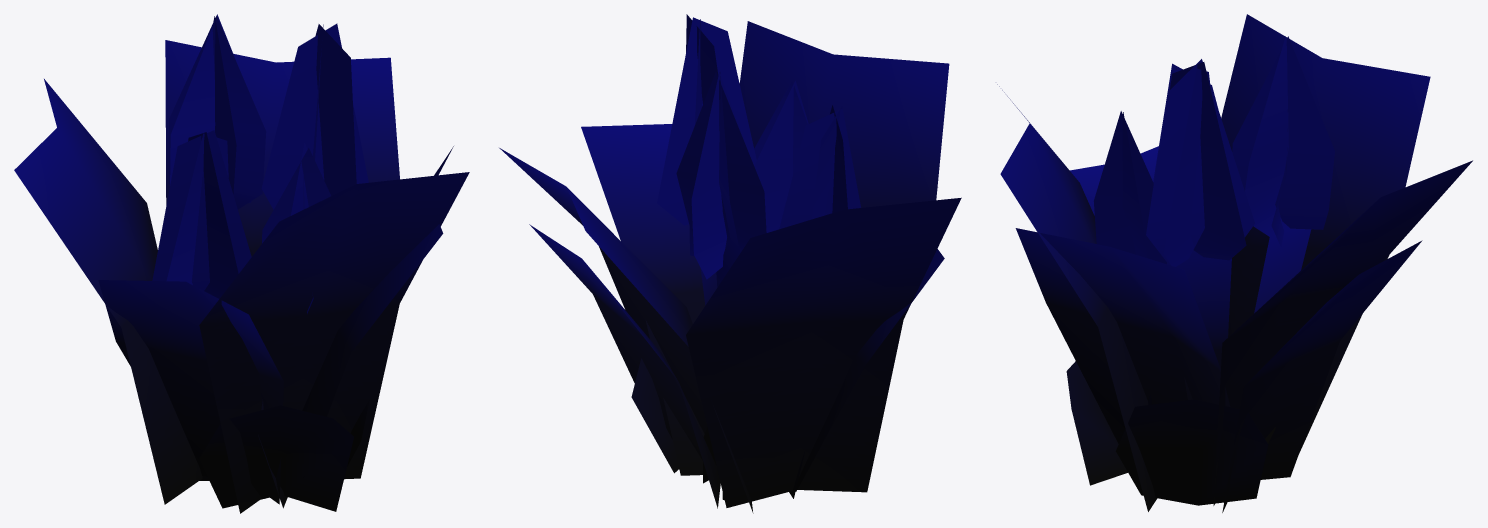
The model's file is SM_Foliage_ReedC_05.fbx.
3 views of the same model, side by side, from view 1: azimuth 30°, elevation 25°; view 2: azimuth 150°, elevation 25°; view 3: azimuth 270°, elevation 25° (orthographic).
Parts seen in each view (by area): view 1: SM_Foliage_ReedC_05; view 2: SM_Foliage_ReedC_05; view 3: SM_Foliage_ReedC_05.
Part boxes in pixels (x1=…): SM_Foliage_ReedC_05: x1=14, y1=14, x2=469, y2=513; SM_Foliage_ReedC_05: x1=499, y1=14, x2=961, y2=513; SM_Foliage_ReedC_05: x1=997, y1=14, x2=1472, y2=512.
Size of the model in its own units: 96.31 by 94.75 by 97.38.
